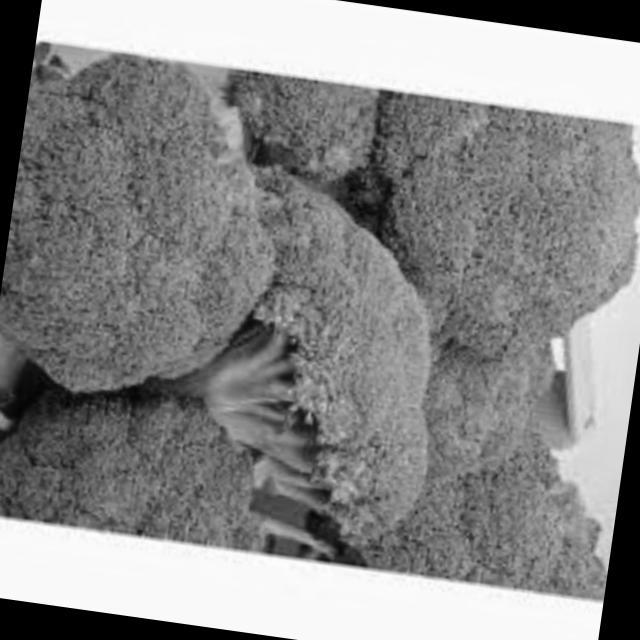broccoli: (184, 176, 478, 550), (317, 60, 640, 383), (0, 74, 297, 391), (0, 296, 303, 596), (331, 308, 637, 600)
